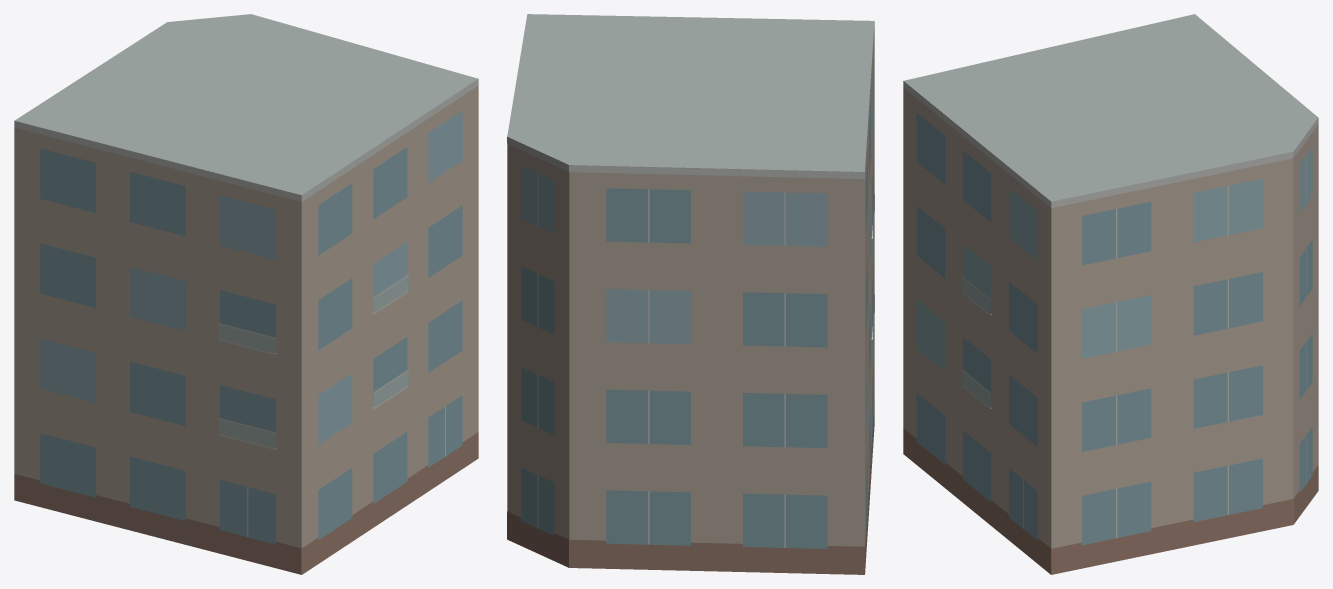
The model's file is survey-upis-32963459.glb.
The picture shows the model from 3 angles, left to right: view 1: azimuth 30°, elevation 25°; view 2: azimuth 150°, elevation 25°; view 3: azimuth 270°, elevation 25°; orthographic projection. The views are drawn at different scales.
Visible parts, largest first — view 1: survey-upis-32963459.tmp; view 2: survey-upis-32963459.tmp; view 3: survey-upis-32963459.tmp.
Part boxes in pixels (x1,y1,x2,y2): survey-upis-32963459.tmp: [14, 14, 478, 574]; survey-upis-32963459.tmp: [507, 14, 874, 574]; survey-upis-32963459.tmp: [903, 14, 1318, 574].
Bounding box in the file's own units: 14.89 × 13.8 × 13.92.
